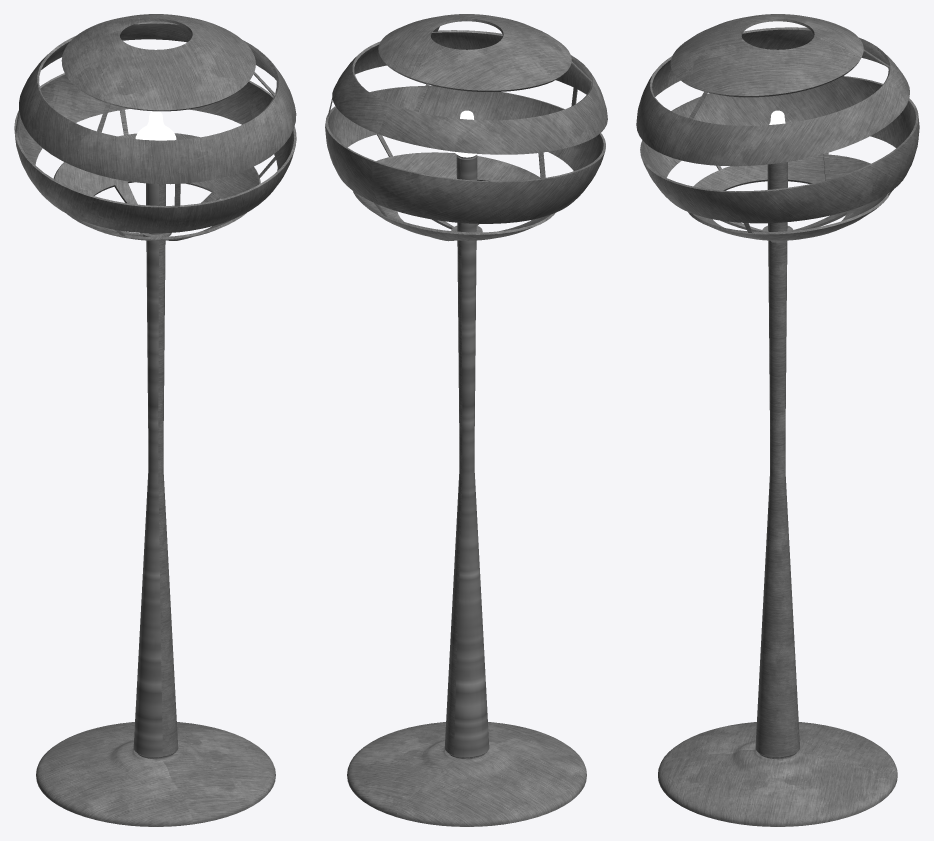
File: lamp_type_7.glb
3 renders of one model, left to right at view 1: azimuth 30°, elevation 25°; view 2: azimuth 150°, elevation 25°; view 3: azimuth 270°, elevation 25°, orthographic.
Parts seen in each view (by area): view 1: lamp.000; view 2: lamp.000; view 3: lamp.000.
Part boxes in pixels (x1,y1,x2,y2): lamp.000: (14,14,296,826); lamp.000: (325,14,607,826); lamp.000: (636,14,919,826).
Size of the model in its own units: 0.542 by 1.57 by 0.5439.
Materials: 3 (2 with a texture image).
